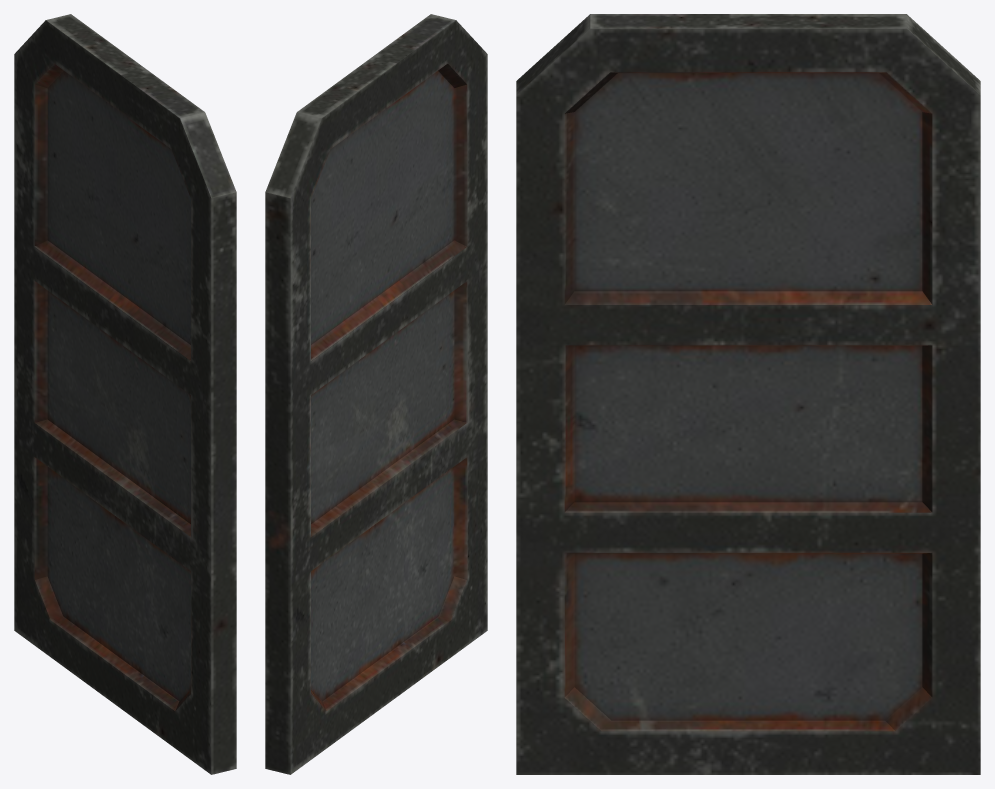
File: Door_01.FBX
The picture shows the model from 3 angles, left to right: view 1: azimuth 30°, elevation 25°; view 2: azimuth 150°, elevation 25°; view 3: azimuth 270°, elevation 25°; orthographic projection. The views are drawn at different scales.
Parts seen in each view (by area): view 1: Door_01; view 2: Door_01; view 3: Door_01.
Boxes of the visible parts, box(x1,y1,x2,y2) form: Door_01: box(14, 14, 236, 774); Door_01: box(265, 14, 487, 774); Door_01: box(516, 14, 980, 774).
Size of the model in its own units: 3.65 by 87.6 by 49.4.
